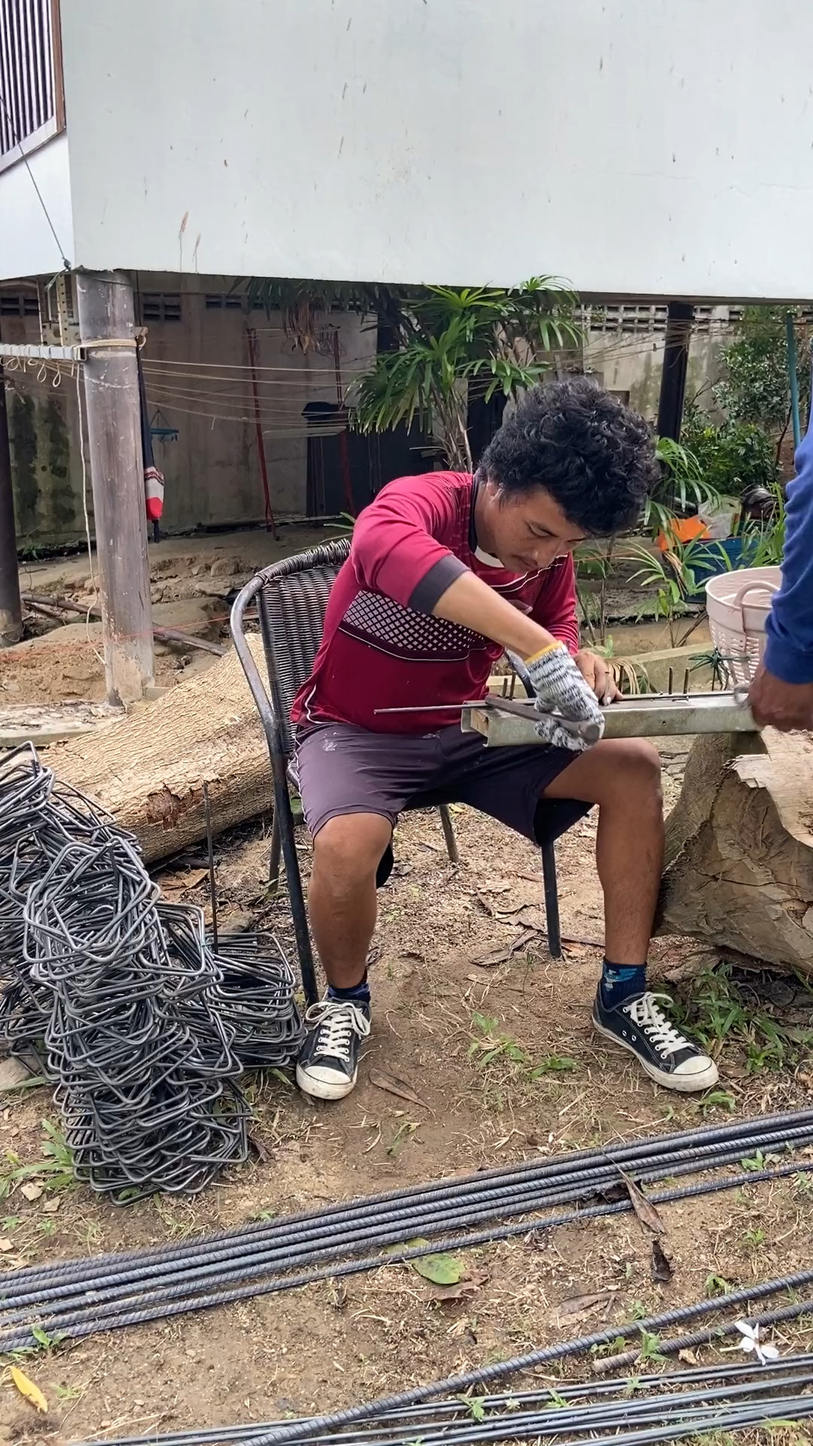gloves: (504, 633, 615, 760)
